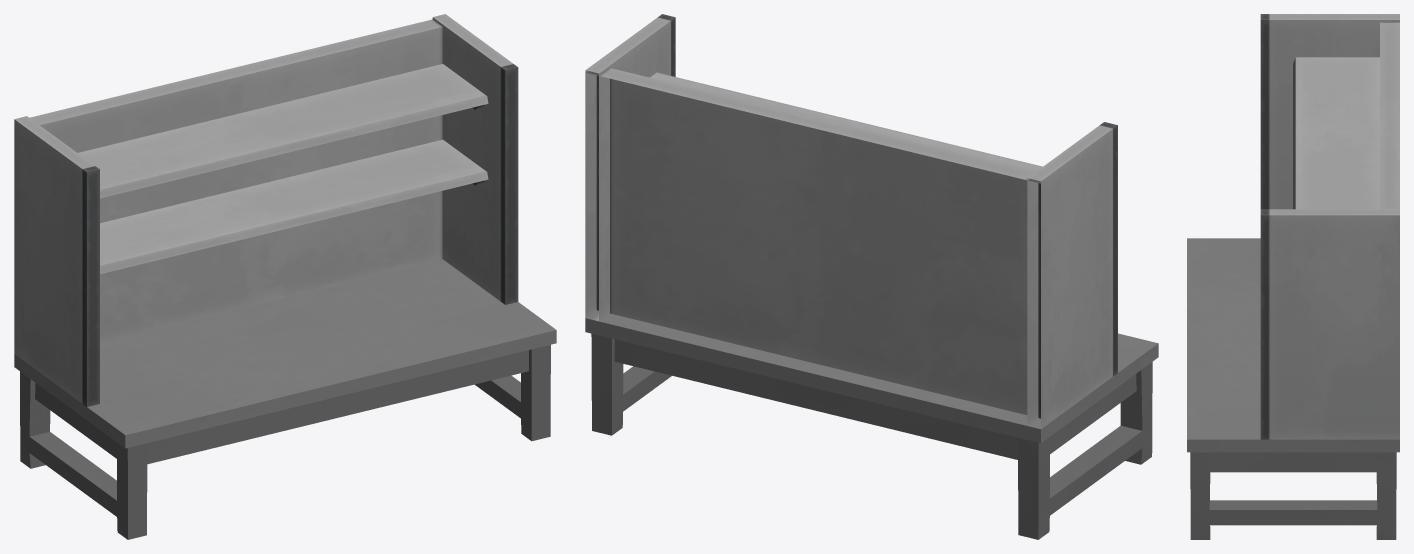
Rendered from Pfb_Table_03_2_JLAB_Temp.fbx.
3 renders of one model, left to right at view 1: azimuth 30°, elevation 25°; view 2: azimuth 150°, elevation 25°; view 3: azimuth 270°, elevation 25°, orthographic. The views are drawn at different scales.
Parts seen in each view (by area): view 1: Mat_Shop_Shelf_01_Grey, Mat_Table_02_White_JLAB; view 2: Mat_Shop_Shelf_01_Grey, Mat_Table_02_White_JLAB; view 3: Mat_Shop_Shelf_01_Grey, Mat_Table_02_White_JLAB.
Boxes of the visible parts, x1=… form: Mat_Shop_Shelf_01_Grey: x1=14, y1=14, x2=518, y2=406; Mat_Table_02_White_JLAB: x1=14, y1=259, x2=556, y2=539; Mat_Shop_Shelf_01_Grey: x1=585, y1=14, x2=1117, y2=428; Mat_Table_02_White_JLAB: x1=585, y1=310, x2=1158, y2=539; Mat_Shop_Shelf_01_Grey: x1=1260, y1=14, x2=1399, y2=439; Mat_Table_02_White_JLAB: x1=1187, y1=238, x2=1399, y2=539.
Bounding box in the file's own units: 2.78 × 2.1 × 1.24.
2 materials, 2 textured.
